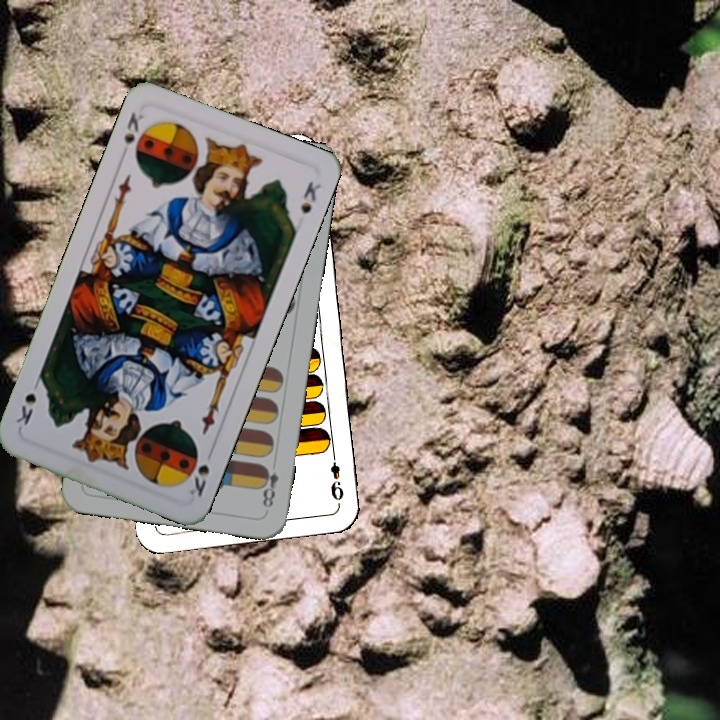E8: (256, 461, 281, 511)
E9: (326, 447, 346, 503)
SK: (183, 444, 212, 500), (119, 108, 146, 162)
